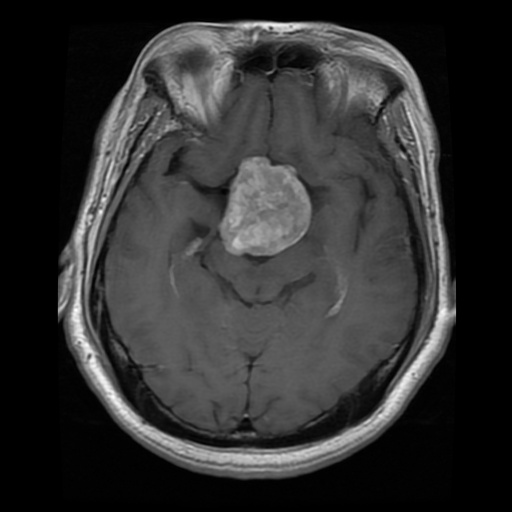pituitary: (219, 158, 310, 253)
